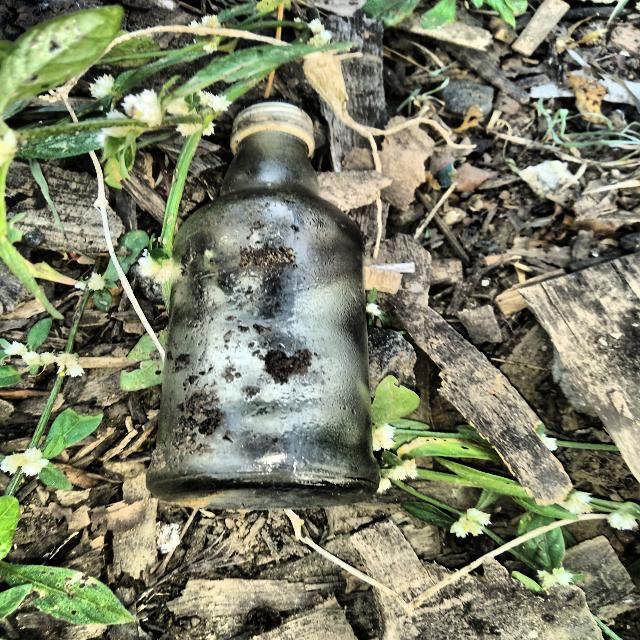anorganik: (159, 103, 381, 518)
